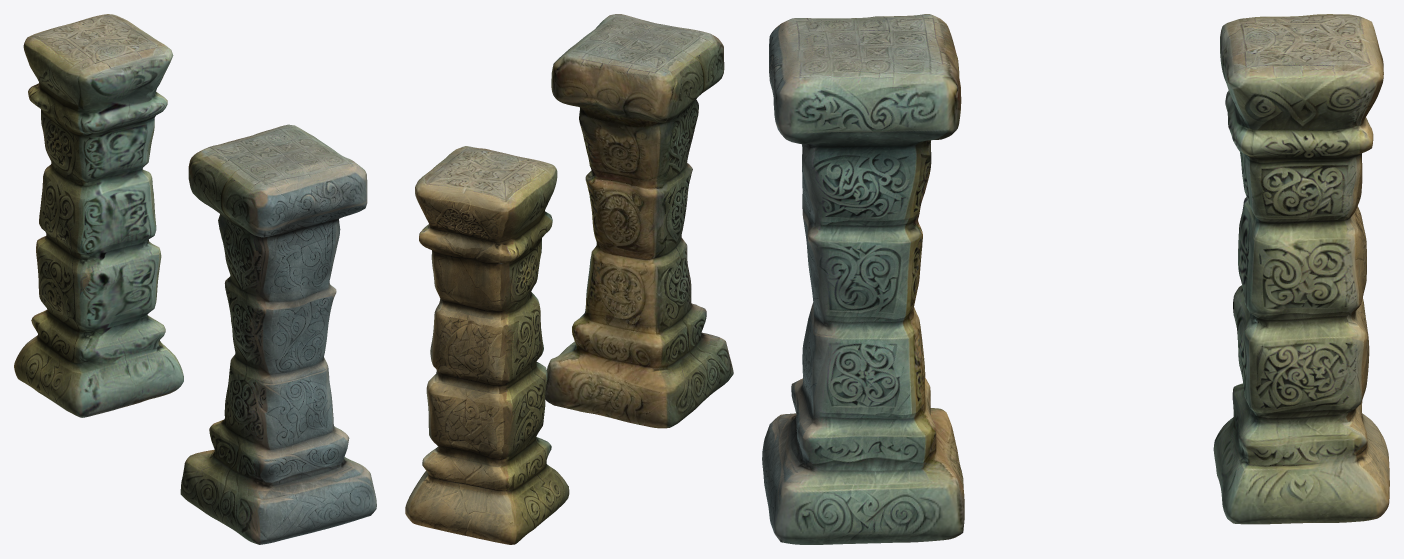
File: ancient-carved-stone-columns.glb
3 renders of one model, left to right at view 1: azimuth 30°, elevation 25°; view 2: azimuth 150°, elevation 25°; view 3: azimuth 270°, elevation 25°, orthographic. The views are drawn at different scales.
Size of the model in its own units: 0.4076 by 1.01 by 1.2.
1 material, 1 textured.
